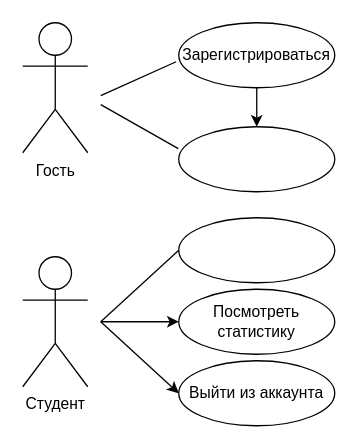
Some shapes in this 358 by 448 pixel diagram are drawn without their labels. Each missing label, with the box of its shape:
Войти: (177, 125, 335, 192)
Решить задание: (177, 216, 335, 283)
